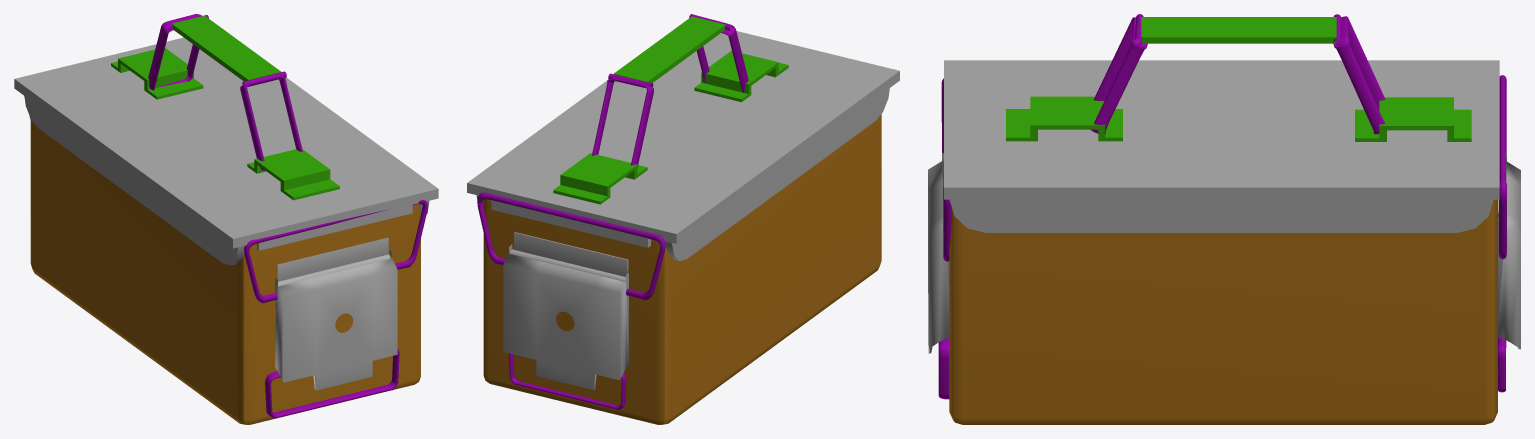
The model's file is AmmoBox.fbx.
3 views of the same model, side by side, from view 1: azimuth 30°, elevation 25°; view 2: azimuth 150°, elevation 25°; view 3: azimuth 270°, elevation 25° (orthographic). The views are drawn at different scales.
Parts seen in each view (by area): view 1: polySurface37; view 2: polySurface37; view 3: polySurface37.
Part boxes in pixels (x1=…): polySurface37: x1=14, y1=14, x2=438, y2=424; polySurface37: x1=467, y1=14, x2=899, y2=424; polySurface37: x1=928, y1=14, x2=1520, y2=424.
Size of the model in its own units: 1.12 by 1.45 by 2.21.
